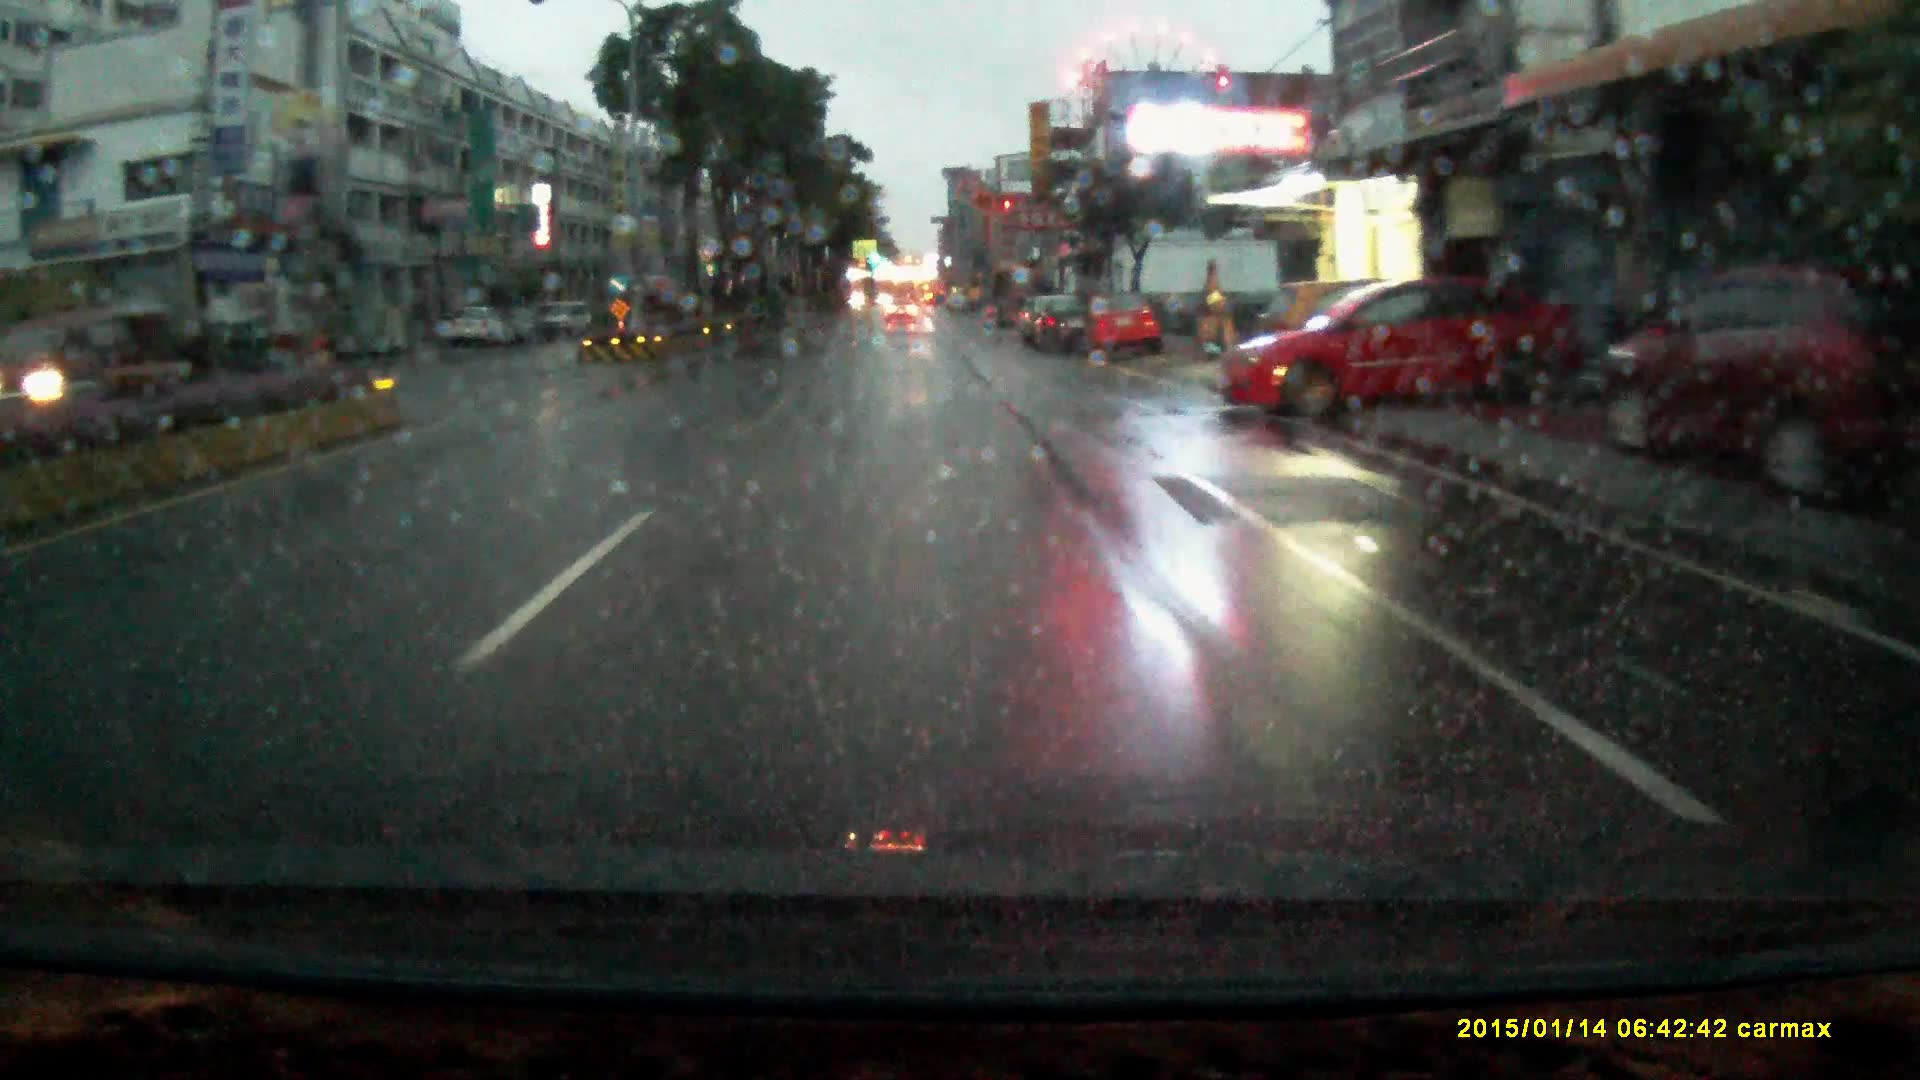vehicle: (1596, 262, 1920, 502), (1226, 272, 1593, 419), (1, 301, 196, 418), (1076, 295, 1168, 361), (1027, 295, 1095, 355), (448, 301, 505, 348), (537, 299, 597, 340), (886, 297, 918, 324)
